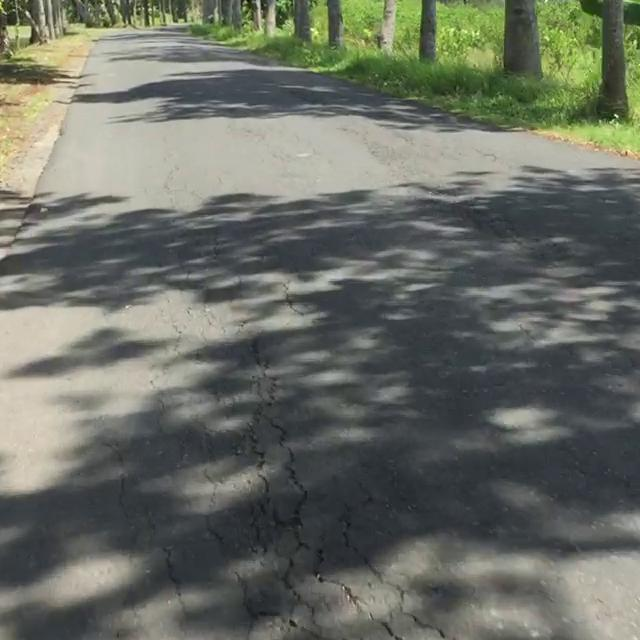retak_kulit_buaya: (142, 291, 425, 640)
